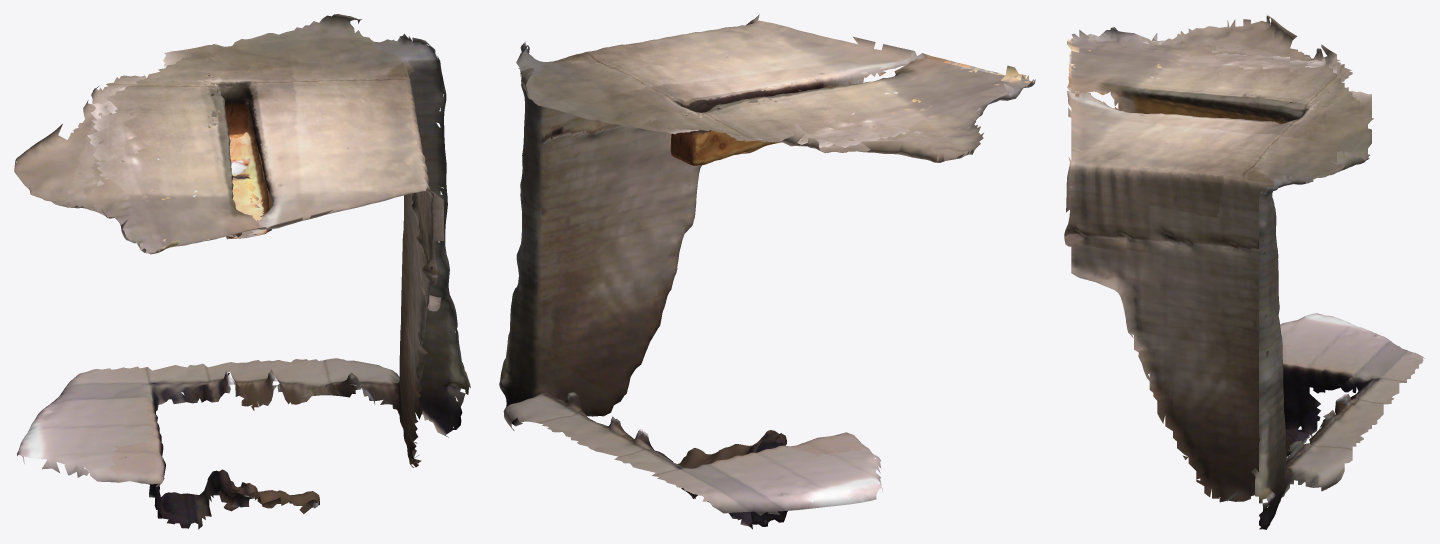
File: Disc6.obj
3 views of the same model, side by side, from view 1: azimuth 30°, elevation 25°; view 2: azimuth 150°, elevation 25°; view 3: azimuth 270°, elevation 25° (orthographic). The views are drawn at different scales.
Size of the model in its own units: 5.49 by 5 by 4.31.
1 material, 1 textured.
